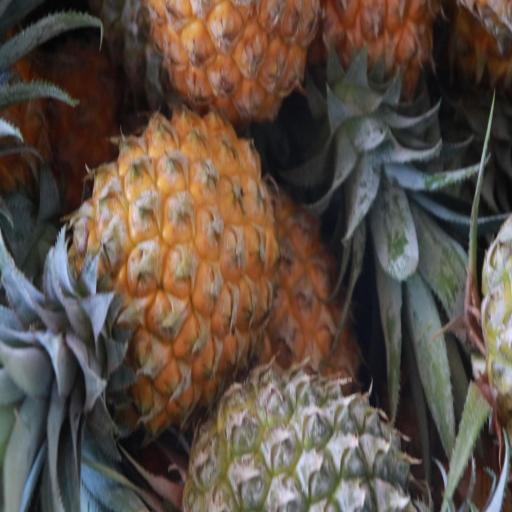Pineapple - v8 v1: (74, 114, 272, 437), (148, 0, 311, 126), (319, 0, 436, 156)
